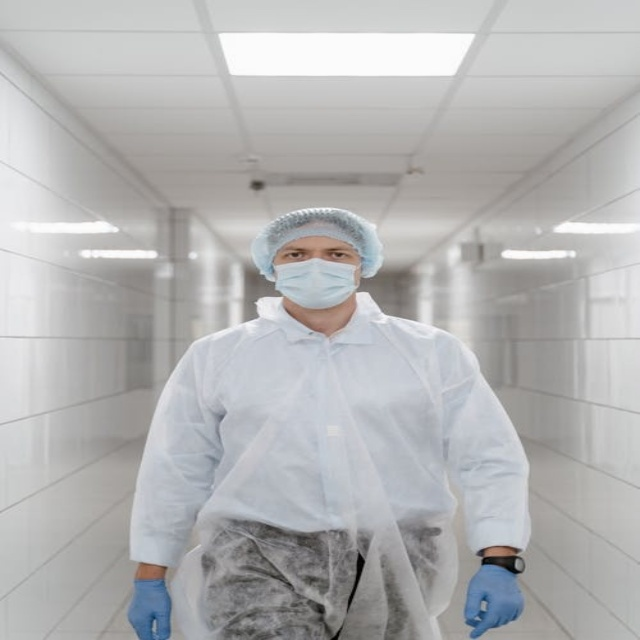Guantes: (464, 564, 524, 639), (128, 579, 172, 639)
Mascara: (271, 256, 361, 308)
Sin_gafas: (280, 243, 352, 262)
